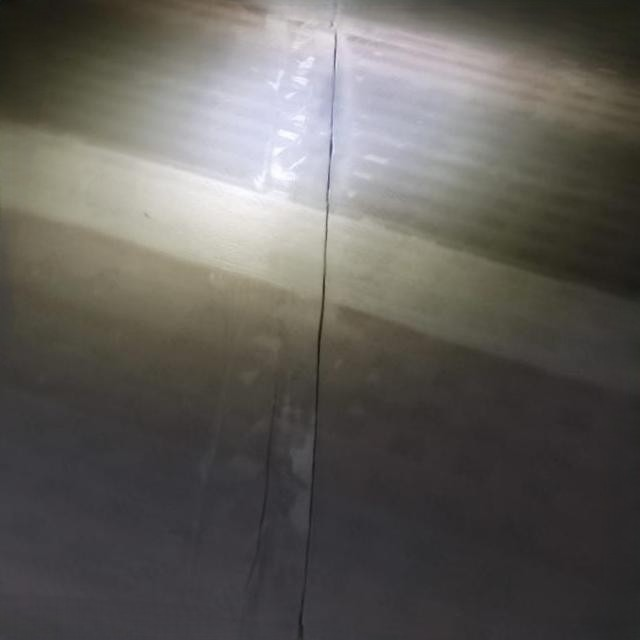Tear: (280, 0, 350, 640)
